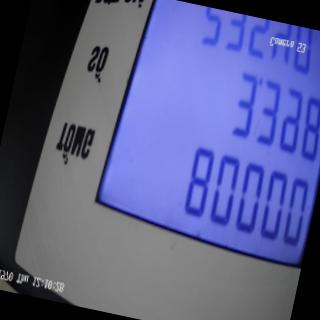screen: (79, 0, 320, 274)
